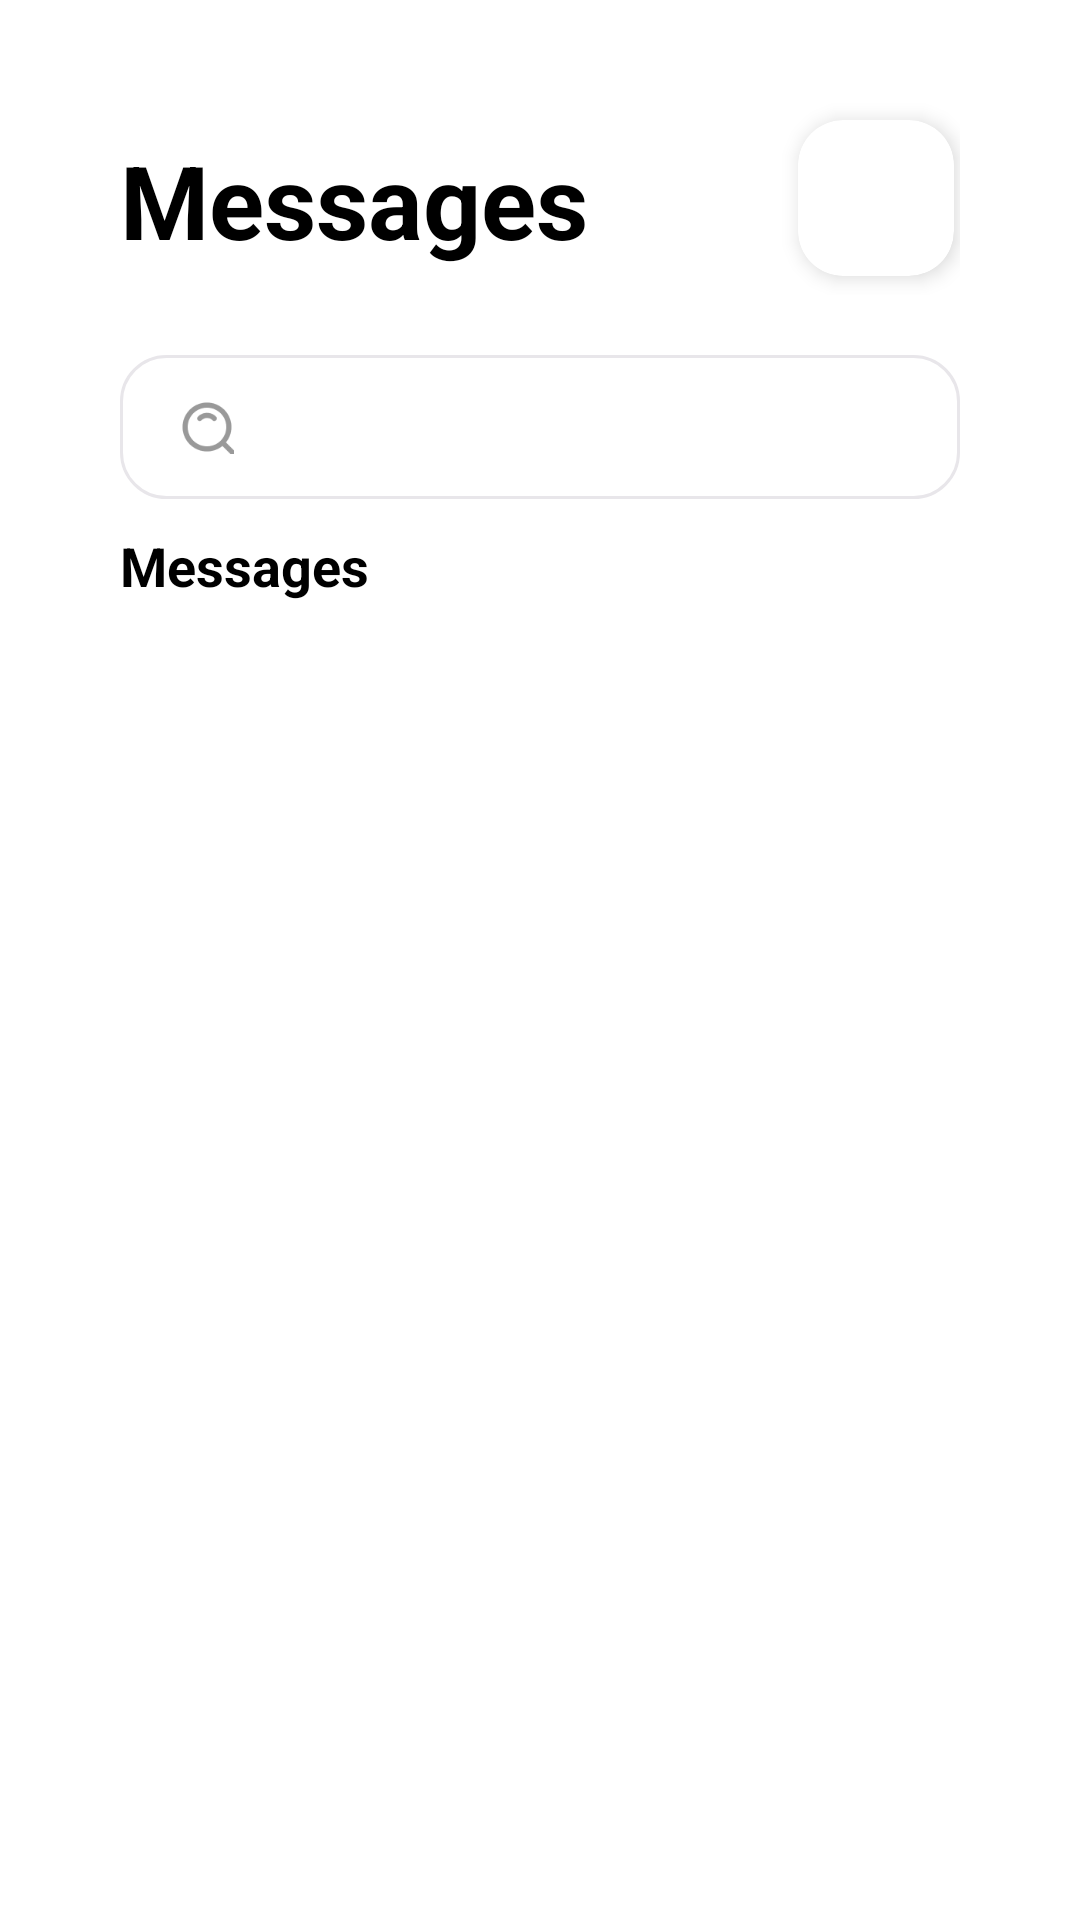

Icon bounding boxes for this 1080 × 1920 phone screenshot, format Rect(x1, y1, x2, y2):
serachicon: Rect(182, 402, 234, 454)
